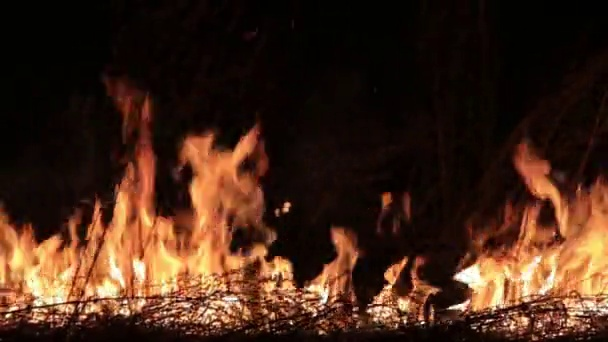fire: (451, 156, 608, 324), (177, 127, 294, 329), (1, 217, 177, 323), (367, 257, 440, 328), (114, 100, 157, 216), (302, 226, 358, 313)
